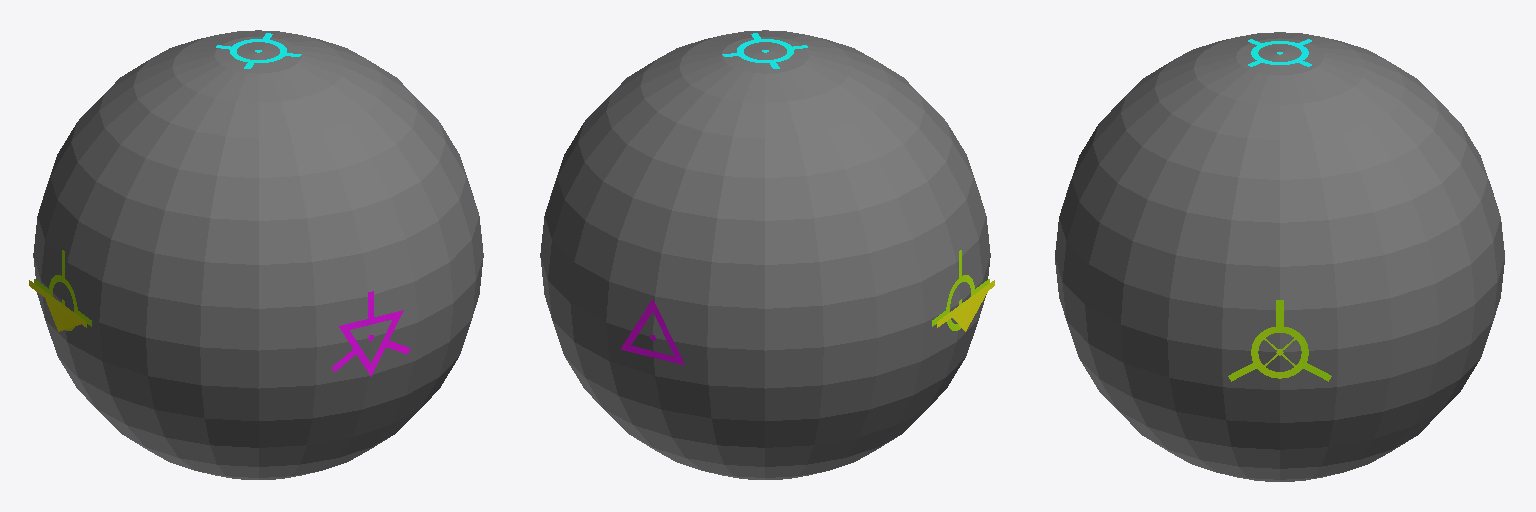
3 renders of one model, left to right at view 1: azimuth 30°, elevation 25°; view 2: azimuth 150°, elevation 25°; view 3: azimuth 270°, elevation 25°, orthographic.
Parts seen in each view (by area): view 1: Mesh14 Model, Mesh10 AntiNormal Indicators1 Model, Mesh2 Reticle1 Model, Mesh11 Radial_Out Indicators1 Model, Mesh5 Prograde Indicators1 Model; view 2: Mesh14 Model, Mesh7 Normal Indicators1 Model, Mesh2 Reticle1 Model, Mesh11 Radial_Out Indicators1 Model, Mesh5 Prograde Indicators1 Model; view 3: Mesh14 Model, Mesh6 Retrograde Indicators1 Model, Mesh11 Radial_Out Indicators1 Model.
Part boxes in pixels (bbox=[...]): Mesh14 Model: bbox=[33, 30, 483, 479]; Mesh10 AntiNormal Indicators1 Model: bbox=[332, 291, 410, 376]; Mesh2 Reticle1 Model: bbox=[29, 280, 86, 331]; Mesh11 Radial_Out Indicators1 Model: bbox=[216, 33, 301, 68]; Mesh5 Prograde Indicators1 Model: bbox=[34, 250, 91, 330]; Mesh14 Model: bbox=[540, 30, 990, 479]; Mesh7 Normal Indicators1 Model: bbox=[620, 299, 684, 364]; Mesh2 Reticle1 Model: bbox=[937, 280, 994, 331]; Mesh11 Radial_Out Indicators1 Model: bbox=[722, 33, 807, 68]; Mesh5 Prograde Indicators1 Model: bbox=[932, 250, 989, 330]; Mesh14 Model: bbox=[1055, 32, 1504, 481]; Mesh6 Retrograde Indicators1 Model: bbox=[1228, 300, 1331, 381]; Mesh11 Radial_Out Indicators1 Model: bbox=[1248, 39, 1311, 66].
Size of the model in its own units: 0.314 by 0.31 by 0.31.
Materials: 6 (5 with a texture image).